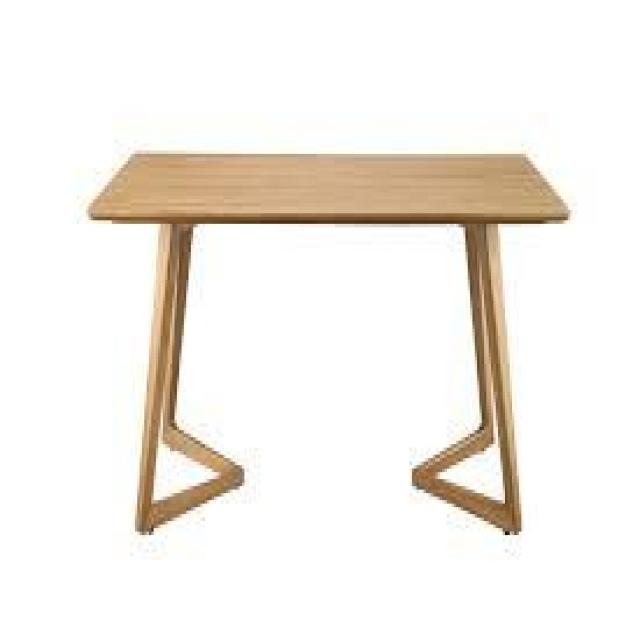table: (84, 82, 575, 558)
